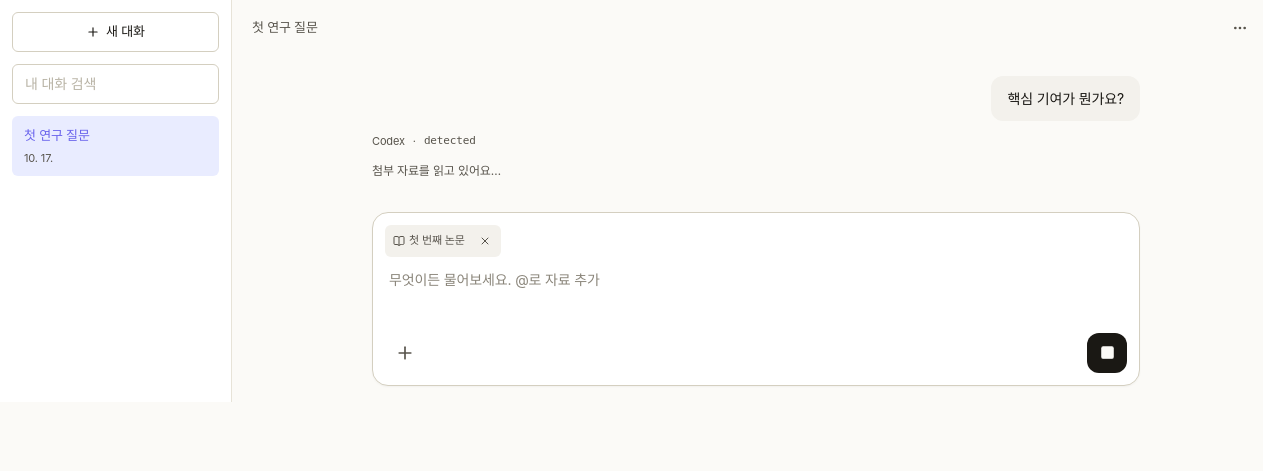
Test: AI 연구 채팅 › 미준비 자료도 전송하면 준비 상태를 표시하고 중지할 수 있다
Expected: the text "첨부 자료를 읽고 있어요…" is shown, [372,162,501,178]
Click the button named "답변 중지" at (1107, 352), box [1087,332,1127,372]
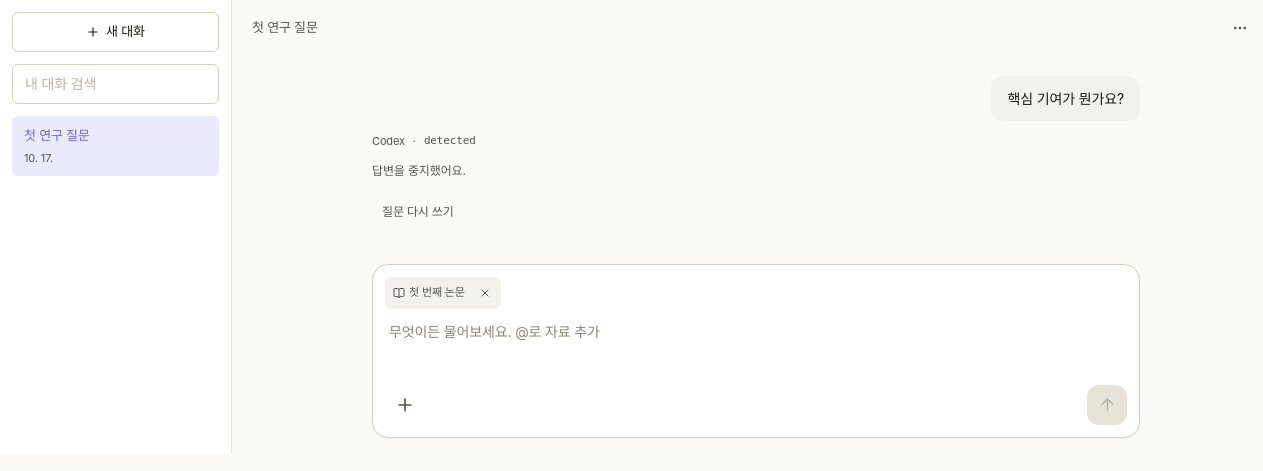
Expected: the text "답변을 중지했어요." is shown, [372,162,466,178]
